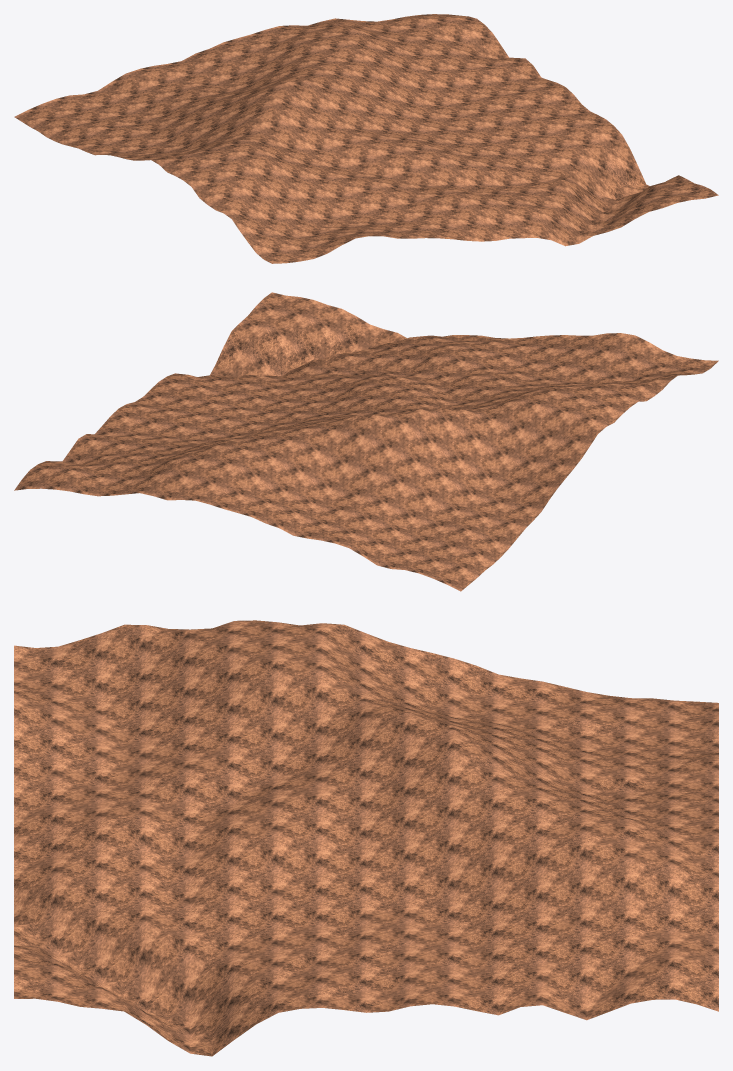
The model's file is terrain_04_00.dae.
The picture shows the model from 3 angles, top to bottom: view 1: azimuth 30°, elevation 25°; view 2: azimuth 150°, elevation 25°; view 3: azimuth 270°, elevation 25°; orthographic projection. The views are drawn at different scales.
Visible parts, largest first — view 1: terrain_04_00-node; view 2: terrain_04_00-node; view 3: terrain_04_00-node.
Part boxes in pixels (x1=…): terrain_04_00-node: x1=14, y1=14, x2=718, y2=263; terrain_04_00-node: x1=14, y1=292, x2=718, y2=591; terrain_04_00-node: x1=14, y1=620, x2=718, y2=1056.
Size of the model in its own units: 128 by 128 by 28.83.
Materials: 1 (1 with a texture image).
